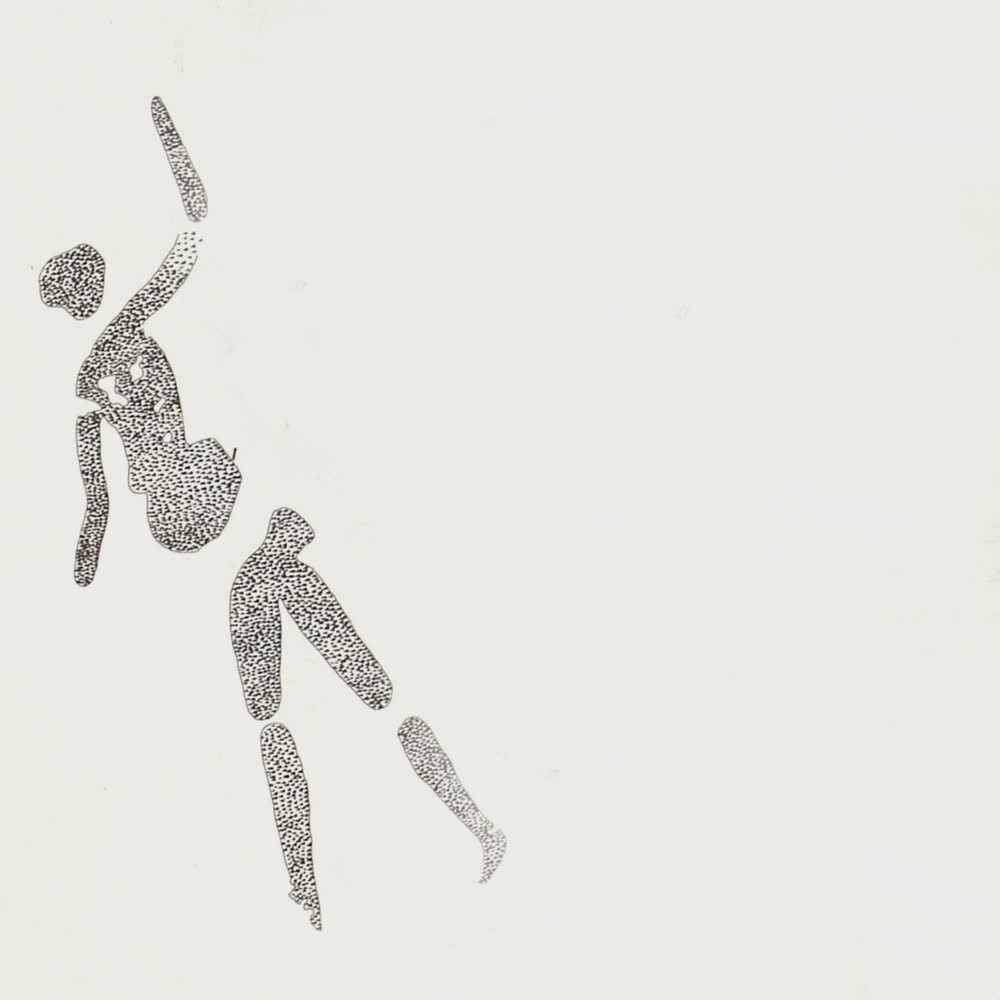woman: (37, 94, 515, 934)
